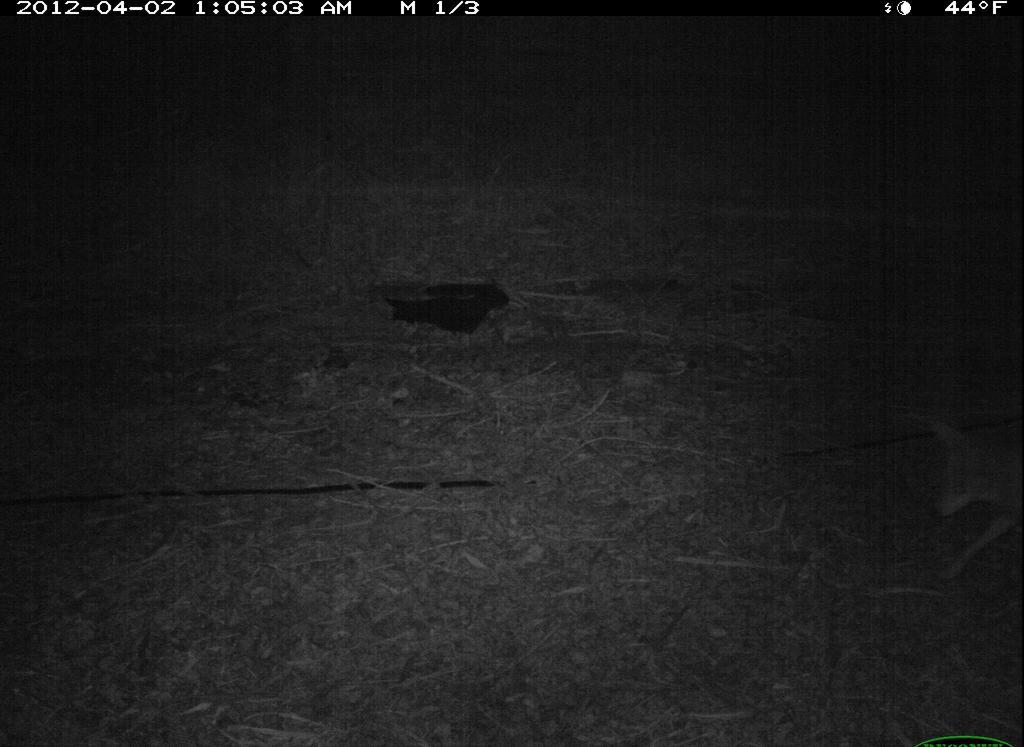coyote: (918, 397, 1018, 605)
